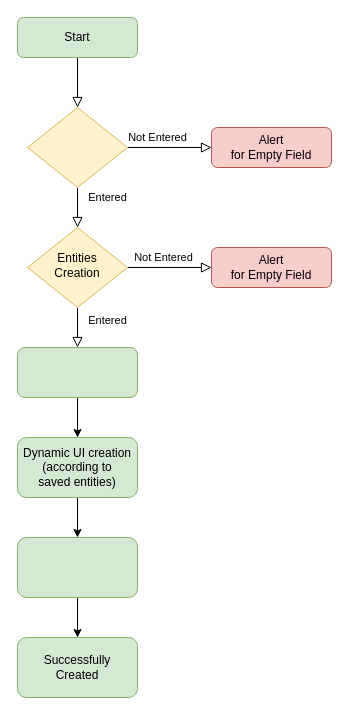
Some shapes in this 349 by 715 pixel diagram are drawn without their labels. The centre of each missing label's shape, as x and y in pixels:
"Enter and save the data accordingly" belongs at [77,567].
"Enter UI NAME" belongs at [77,147].
"Save Created Entries in backend" belongs at [77,372].
